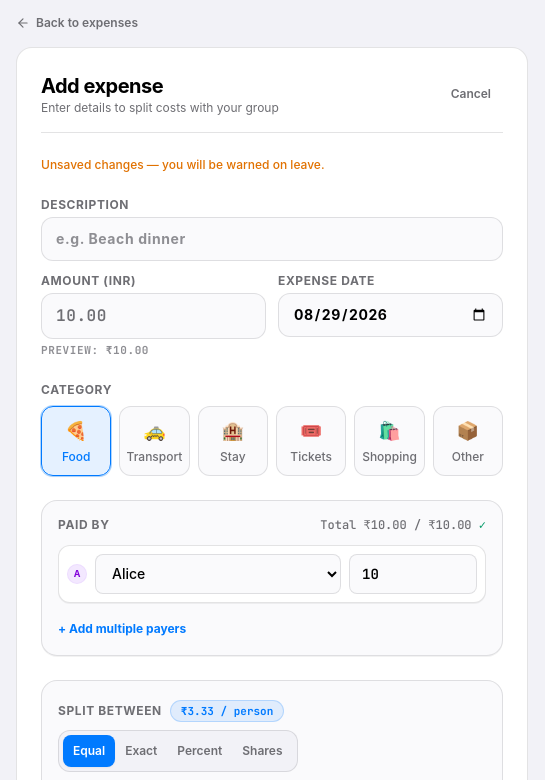
ExpenseFormPage Interactive & State Machine Tests › switching split modes immediately initializes valid allocations without errors
Note: Switch to shares mode
Click the button "shares": (262, 751) [232,735,292,767]
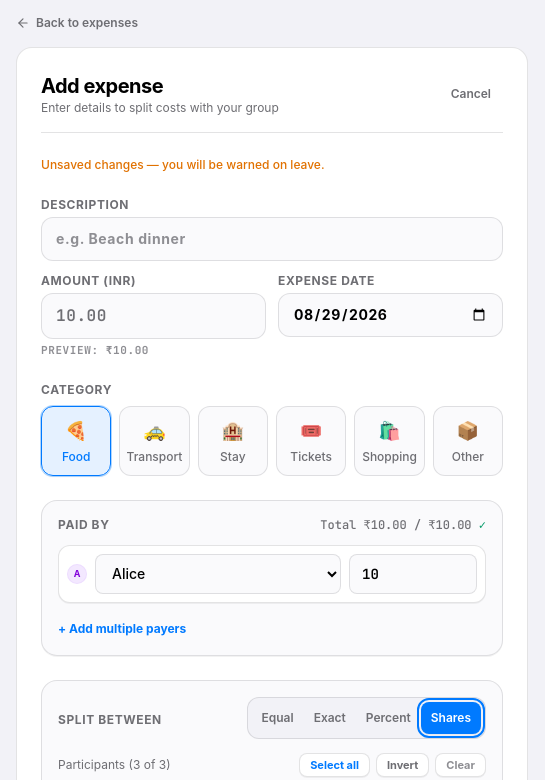
Note: Switch to percent mode
Click the button "percent": (388, 718) [356,702,421,734]
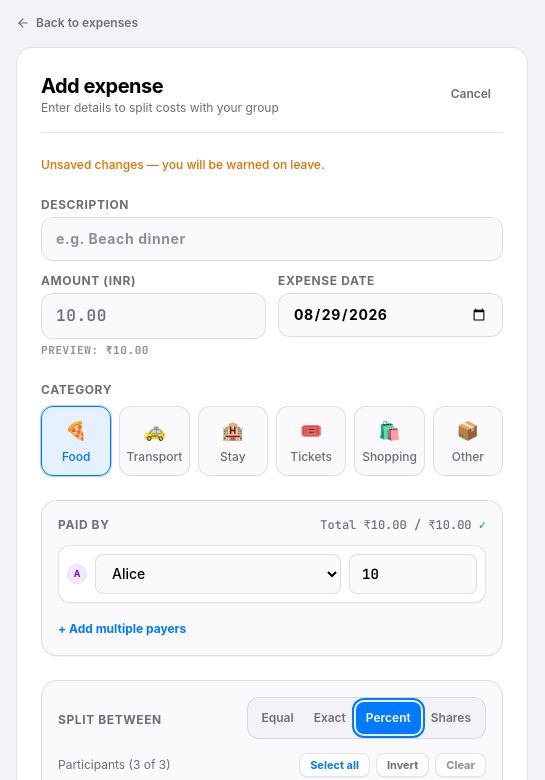
Note: Switch to exact mode
Click the button "exact": (330, 718) [304,702,356,734]
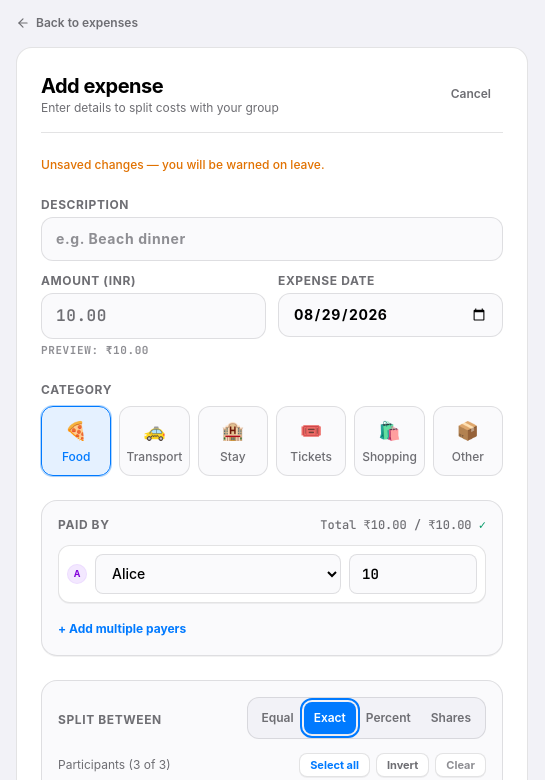
Note: Switch back to equal mode
Click the button "equal": (278, 718) [252,702,304,734]
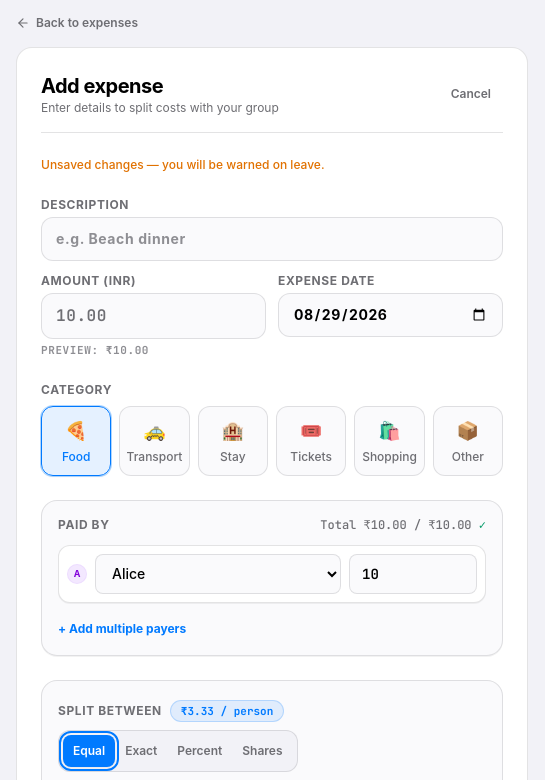
expect the text "₹3.33 / person" is shown: met, box [170,700,284,722]
